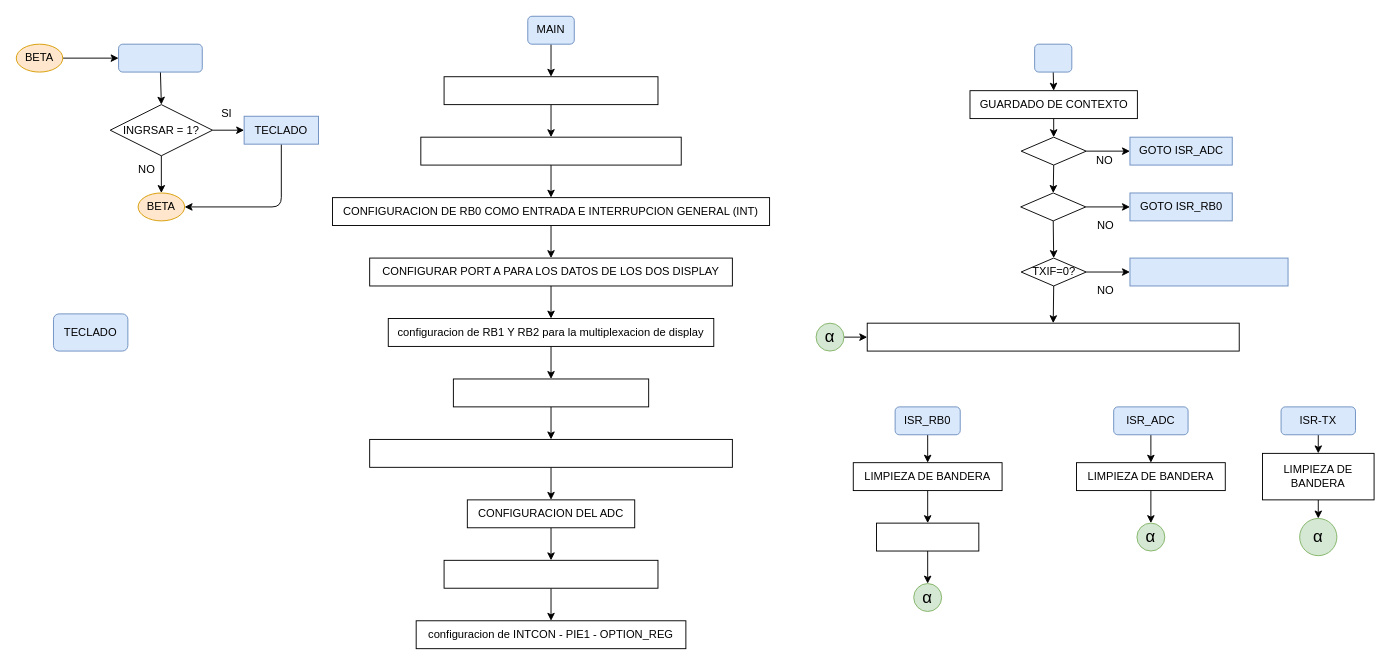
This 1390x665 diagram has some shape labels left out. Here are the shapes that lost their labels. From the top down, the centre of each, then its label:
At point 160,57: "MAIN_LOOP".
At point 1053,57: "ISR".
At point 550,90: "LIMPIEZA DE VARIABLE: INGRESAR".
At point 550,150: "configuracion de PORTD para lectura de teclado".
At point 1053,150: "ADIF=0?".
At point 1053,206: "INTF=0?".
At point 1208,271: "GOTO ISR_TRANSMICION".
At point 1052,336: "RECUPERACION DE CONTEXTO Y RETORNO DE INTERRUPCION".
At point 550,392: "Configuracion del oscilador interno".
At point 550,452: "CONFIGURACION DEL TMR1 PARA INTERRUPIR Y ENVIAR INFO".
At point 927,536: "INGRESAR = 1".
At point 550,573: "CONFIGURACION DEL TRANSMISOR".
